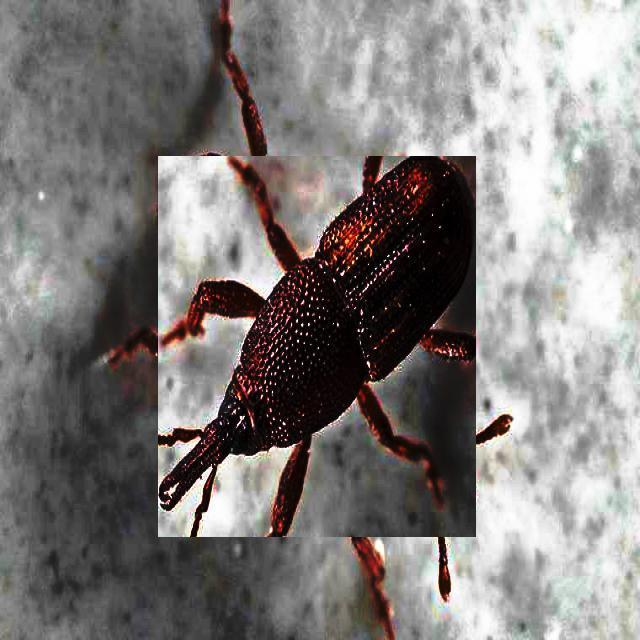rice-bug: (158, 156, 476, 537)
